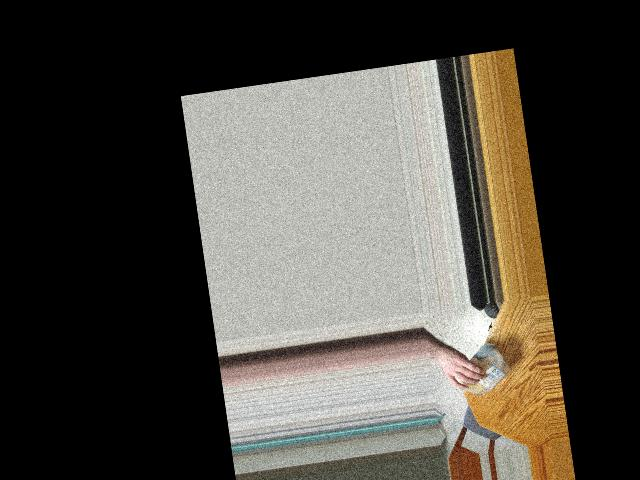cheese: (446, 341, 515, 400)
